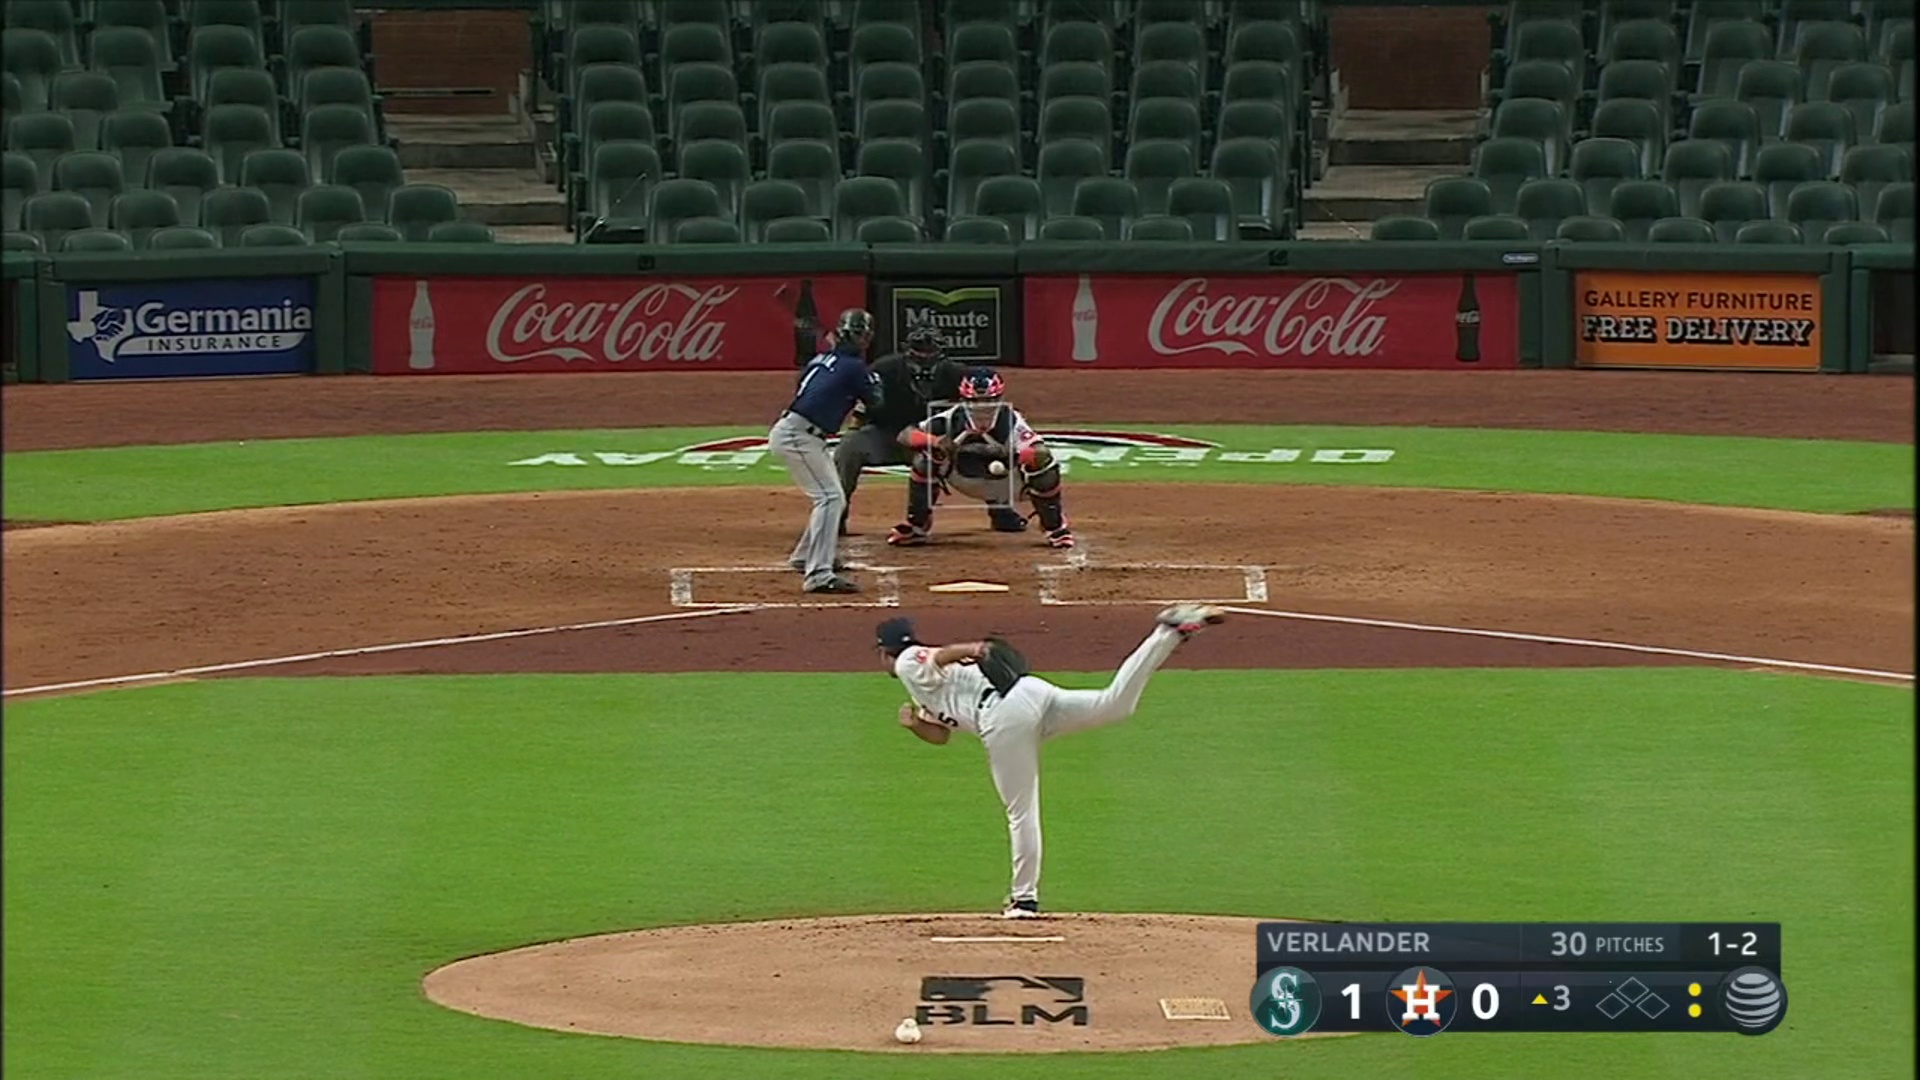baseball: (988, 460, 1004, 473)
